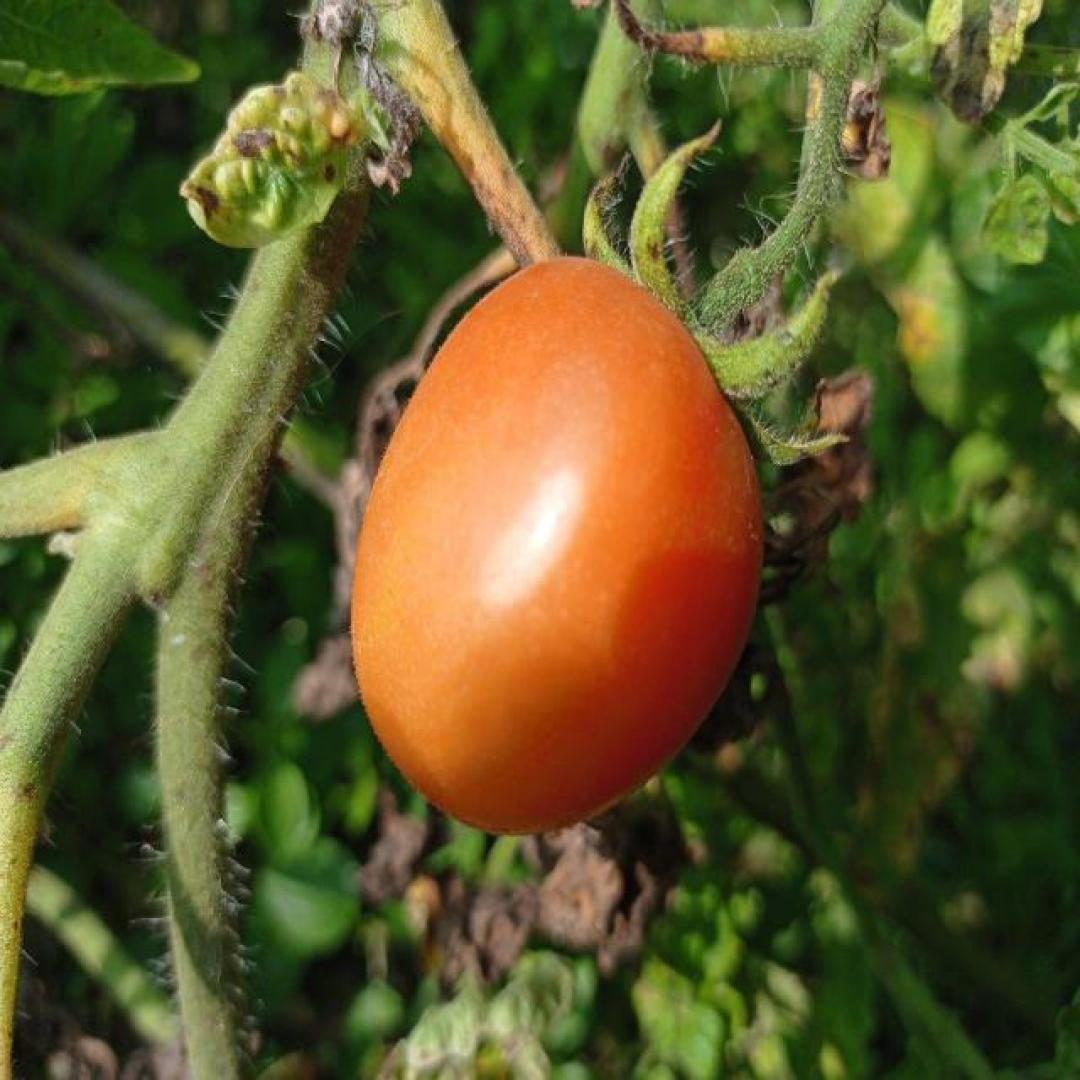setengah_matang: (349, 255, 766, 837)
